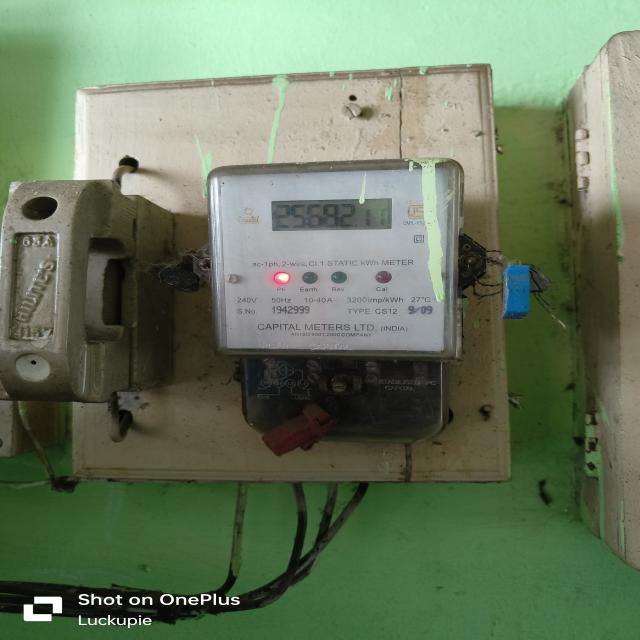display: (268, 200, 394, 232)
